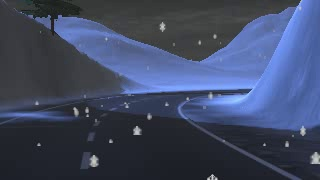Lane: (0, 90, 297, 179)
